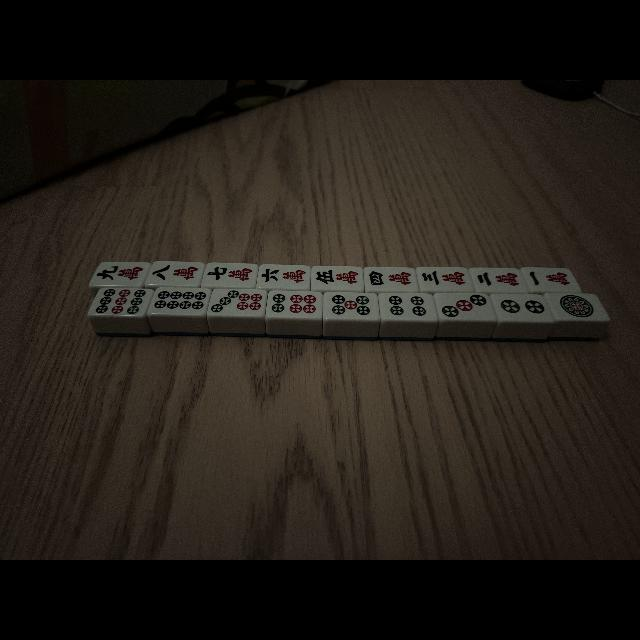c1: (526, 267, 574, 291)
c2: (473, 267, 525, 291)
c3: (418, 268, 469, 290)
c4: (366, 267, 416, 291)
c5: (312, 267, 364, 289)
c6: (258, 265, 308, 289)
c7: (204, 264, 256, 286)
c8: (150, 261, 202, 285)
c9: (94, 262, 146, 286)
d1: (552, 292, 600, 320)
d2: (495, 294, 547, 320)
d3: (438, 293, 490, 319)
d4: (381, 293, 434, 319)
d5: (324, 294, 376, 318)
d6: (268, 292, 322, 316)
d7: (210, 290, 266, 316)
d8: (150, 288, 208, 316)
d9: (92, 288, 148, 316)
